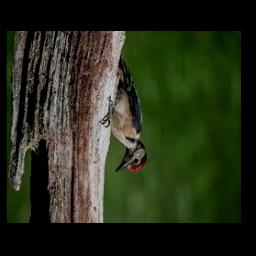Woodpecker: (110, 58, 147, 172)
